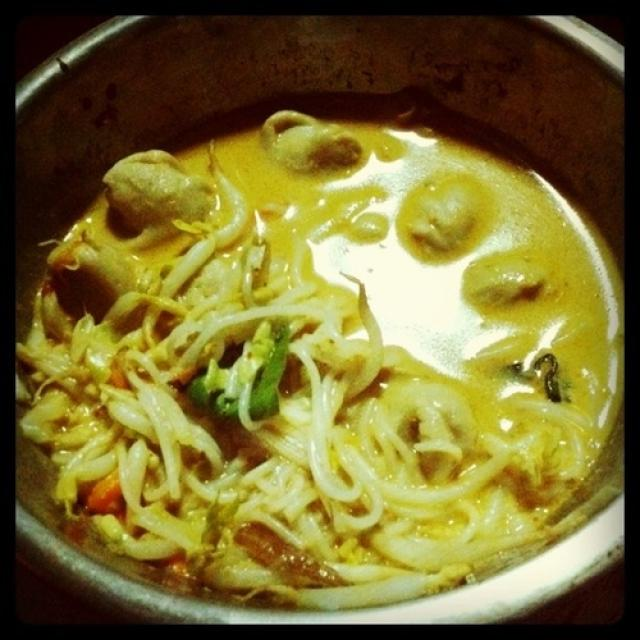面条主食: (13, 10, 631, 618)
